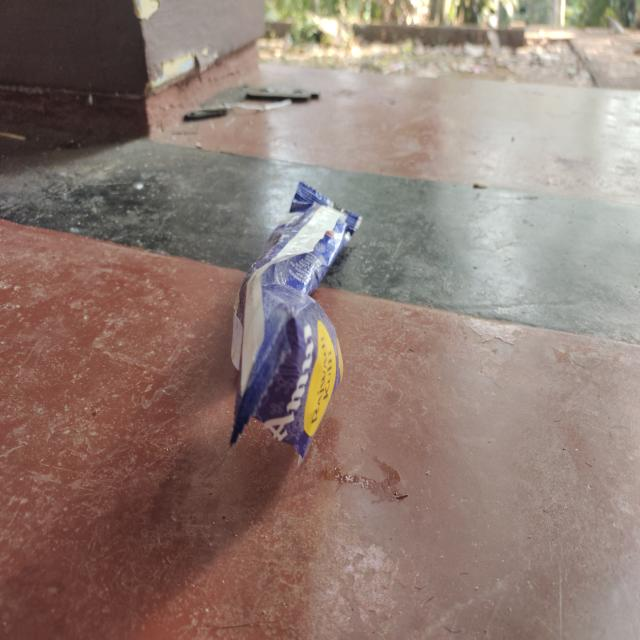plastic: (229, 178, 361, 459)
